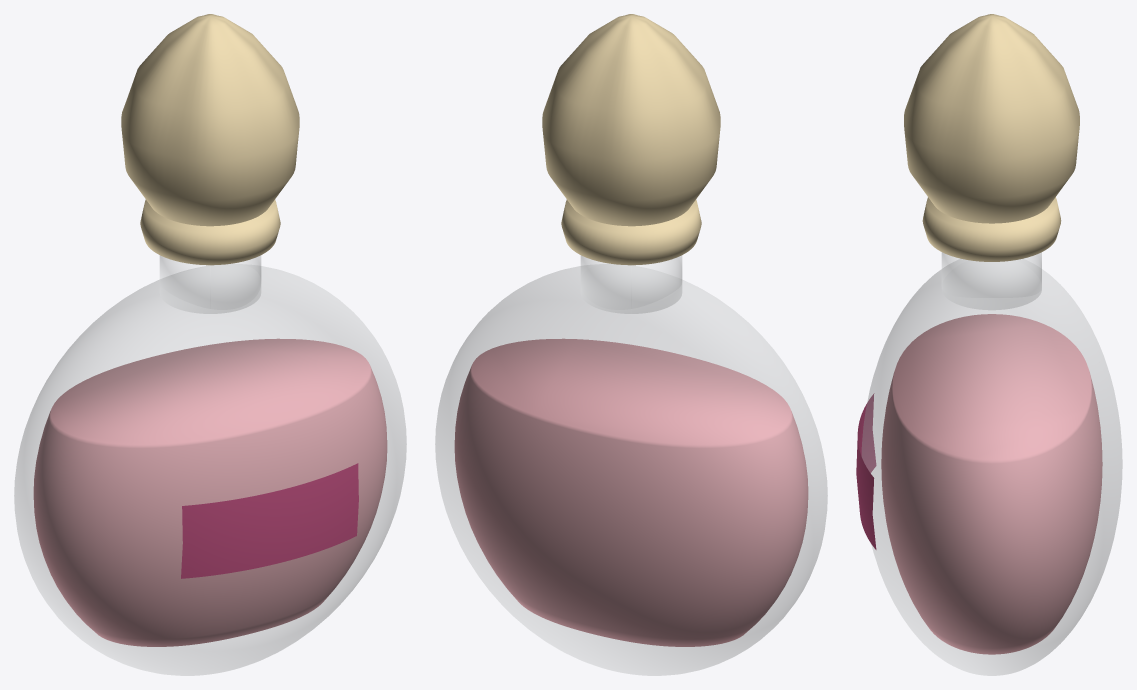
The model's file is ward.glb.
3 views of the same model, side by side, from view 1: azimuth 30°, elevation 25°; view 2: azimuth 150°, elevation 25°; view 3: azimuth 270°, elevation 25° (orthographic).
Parts seen in each view (by area): view 1: Glass, Liquid, Cap, Label, Collar, Neck; view 2: Glass, Liquid, Cap, Collar, Neck; view 3: Glass, Liquid, Cap, Collar, Neck, Label.
Part boxes in pixels (x1,y1,x2,y2): Glass: [14, 264, 406, 675]; Liquid: [33, 338, 387, 646]; Cap: [121, 14, 299, 226]; Label: [181, 463, 358, 578]; Collar: [140, 199, 280, 265]; Neck: [160, 255, 260, 313]; Glass: [435, 264, 827, 675]; Liquid: [454, 338, 808, 646]; Cap: [542, 14, 720, 226]; Collar: [561, 199, 701, 265]; Neck: [581, 255, 681, 313]; Glass: [862, 259, 1122, 675]; Liquid: [881, 314, 1102, 654]; Cap: [904, 14, 1079, 223]; Collar: [922, 197, 1061, 261]; Neck: [942, 252, 1041, 309]; Label: [856, 393, 876, 549].
Bounding box in the file's own units: 0.084 × 0.141 × 0.0531.
